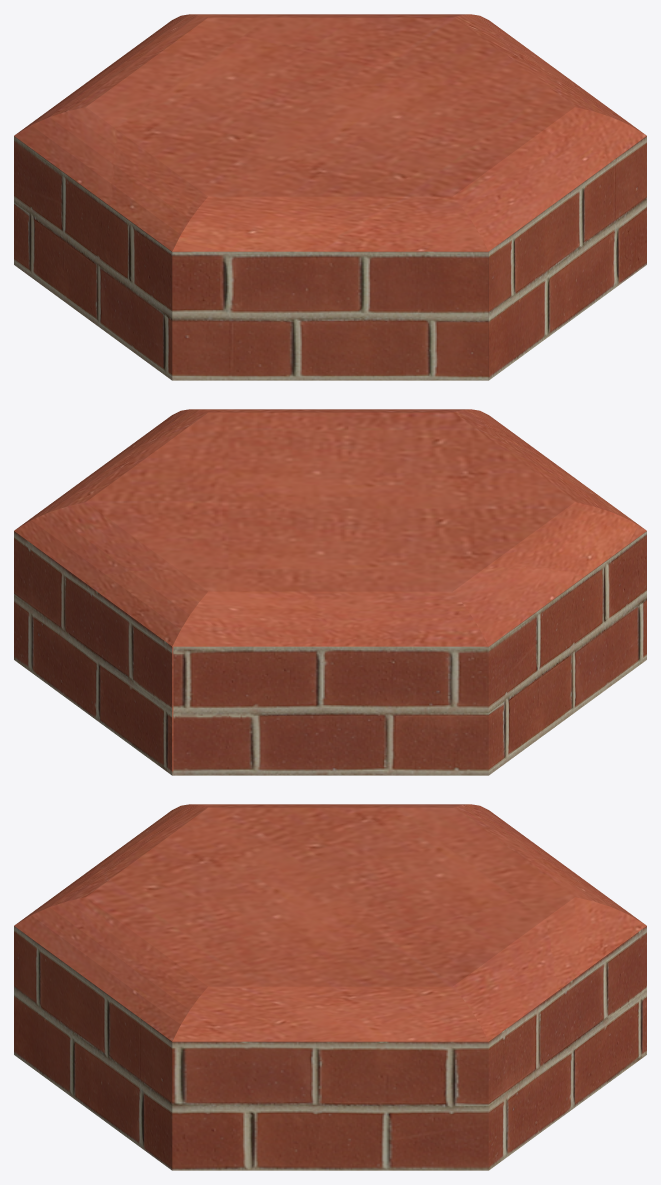
The model's file is DAEbrick.dae.
3 renders of one model, top to bottom at view 1: azimuth 30°, elevation 25°; view 2: azimuth 150°, elevation 25°; view 3: azimuth 270°, elevation 25°, orthographic.
Parts seen in each view (by area): view 1: PolyLowRes; view 2: PolyLowRes; view 3: PolyLowRes.
Boxes of the visible parts, bbox=[...] form: PolyLowRes: bbox=[14, 14, 646, 380]; PolyLowRes: bbox=[14, 409, 646, 775]; PolyLowRes: bbox=[14, 804, 646, 1170].
Bounding box in the file's own units: 1.73 × 2 × 0.55.
1 material, 1 textured.
